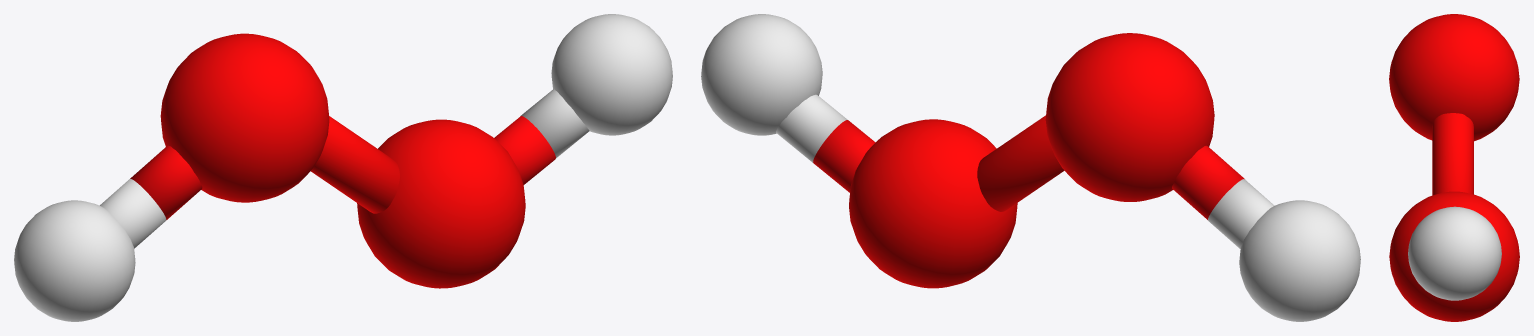
The picture shows the model from 3 angles, left to right: view 1: azimuth 30°, elevation 25°; view 2: azimuth 150°, elevation 25°; view 3: azimuth 270°, elevation 25°; orthographic projection. The views are drawn at different scales.
Visible parts, largest first — view 1: 구체.001, 구체.002, 구체, 구체.003, 실린더.001, 실린더.003, 실린더.004, 실린더.006, 실린더.005; view 2: 구체.001, 구체.002, 구체, 구체.003, 실린더.001, 실린더.003, 실린더.006, 실린더.005, 실린더.004; view 3: 구체.001, 구체.003, 구체.002, 실린더.001.
Part boxes in pixels (x1,y1,x2,y2): 구체.001: (160,33,329,202); 구체.002: (357,119,525,288); 구체: (14,200,135,321); 구체.003: (551,14,672,135); 실린더.001: (311,116,399,213); 실린더.003: (130,145,202,219); 실린더.004: (100,179,166,248); 실린더.006: (521,89,589,158); 실린더.005: (494,116,555,184); 구체.001: (1045,33,1214,201); 구체.002: (849,119,1017,288); 구체: (1239,200,1360,321); 구체.003: (701,14,822,135); 실린더.001: (977,115,1064,211); 실린더.003: (1172,145,1244,219); 실린더.006: (776,94,847,162); 실린더.005: (813,120,875,192); 실린더.004: (1208,179,1274,248); 구체.001: (1389,14,1519,141); 구체.003: (1408,206,1501,300); 구체.002: (1389,191,1519,321); 실린더.001: (1432,113,1473,195).
Size of the model in its own units: 1097 by 469 by 251.
